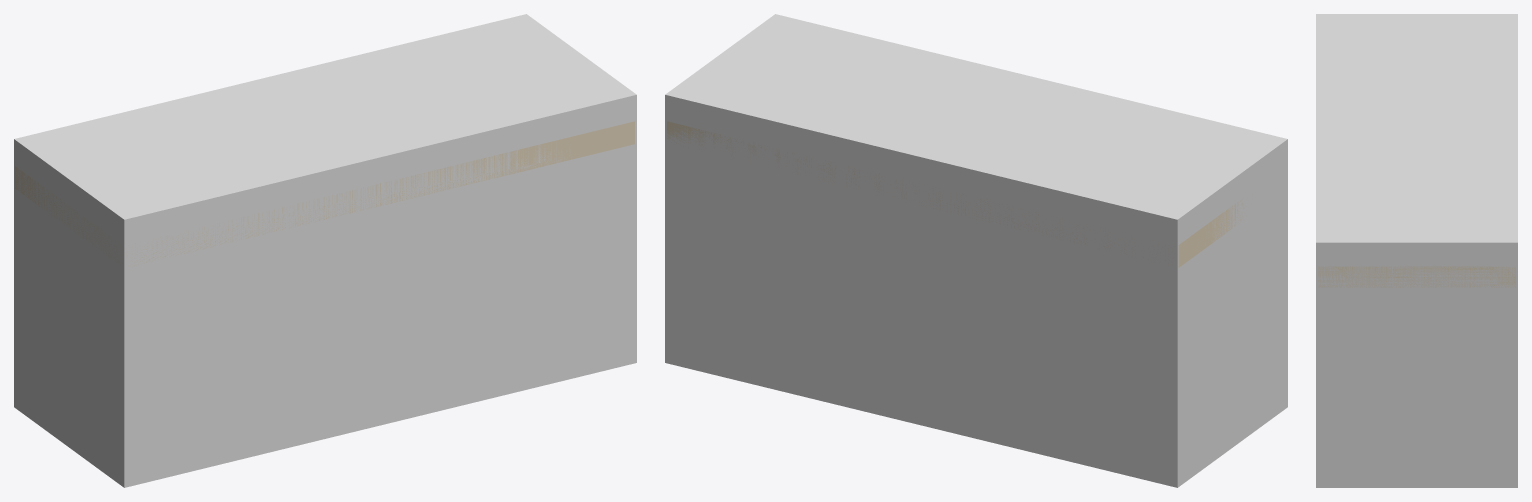
The model's file is reception-desk_basic.glb.
3 views of the same model, side by side, from view 1: azimuth 30°, elevation 25°; view 2: azimuth 150°, elevation 25°; view 3: azimuth 270°, elevation 25° (orthographic). The views are drawn at different scales.
Parts seen in each view (by area): view 1: COL_reception-desk, MESH_Worktop; view 2: COL_reception-desk, MESH_Worktop; view 3: COL_reception-desk, MESH_Worktop.
Boxes of the visible parts, left/top/right/bottom form: COL_reception-desk: left=14, top=14, right=636, bottom=487; MESH_Worktop: left=15, top=121, right=634, bottom=266; COL_reception-desk: left=665, top=14, right=1287, bottom=487; MESH_Worktop: left=667, top=121, right=1252, bottom=267; COL_reception-desk: left=1316, top=14, right=1517, bottom=487; MESH_Worktop: left=1318, top=266, right=1515, bottom=287.
Bounding box in the file's own units: 2.2 × 1.1 × 0.82.
